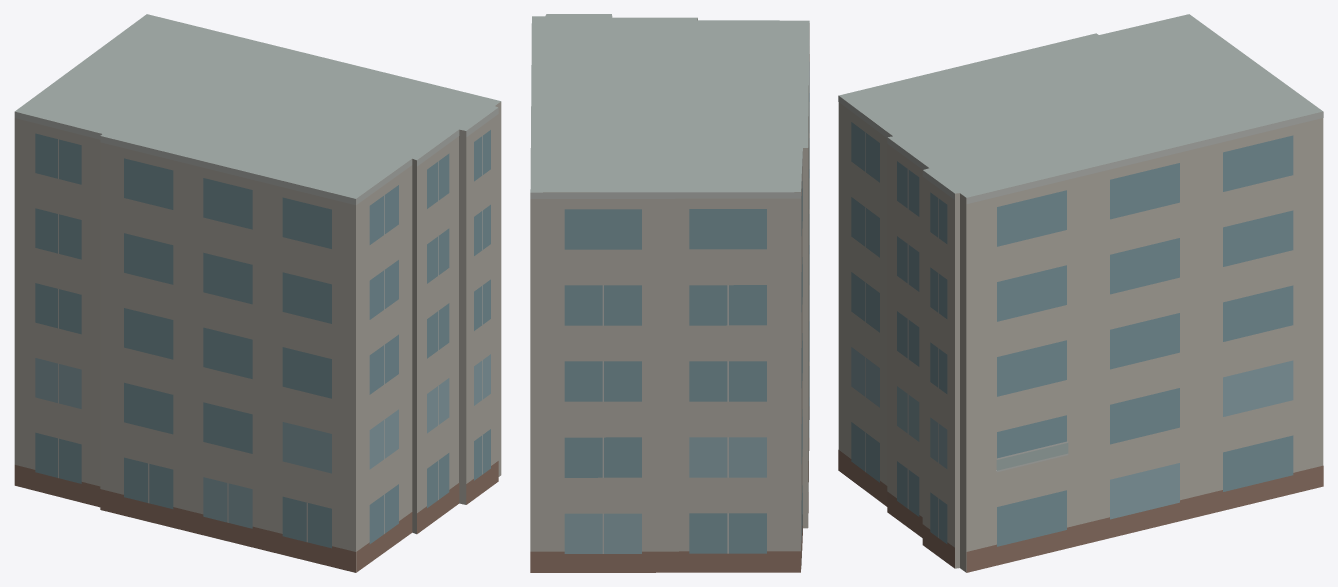
The model's file is survey-upis-32661524.glb.
The picture shows the model from 3 angles, left to right: view 1: azimuth 30°, elevation 25°; view 2: azimuth 150°, elevation 25°; view 3: azimuth 270°, elevation 25°; orthographic projection.
Parts seen in each view (by area): view 1: survey-upis-32661524.tmp; view 2: survey-upis-32661524.tmp; view 3: survey-upis-32661524.tmp.
Boxes of the visible parts, x1=… form: survey-upis-32661524.tmp: x1=14, y1=14, x2=501, y2=572; survey-upis-32661524.tmp: x1=530, y1=14, x2=809, y2=572; survey-upis-32661524.tmp: x1=838, y1=14, x2=1323, y2=572.
Size of the model in its own units: 14.93 by 14.19 by 16.64.
